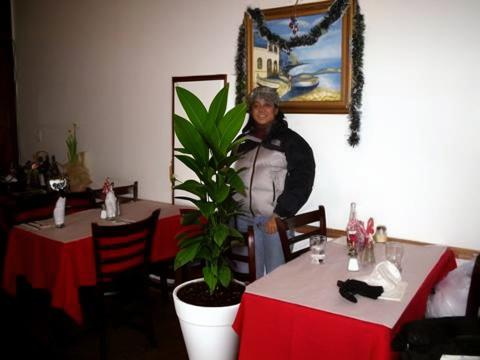chair: (177, 227, 258, 335), (91, 209, 162, 296), (277, 206, 328, 266), (87, 181, 141, 207)
diningtable: (219, 233, 459, 360), (4, 197, 182, 328)
person: (245, 87, 316, 281)
person/hand: (265, 216, 279, 234)
person/head: (251, 88, 278, 124)
pottedplant: (171, 75, 245, 360)
